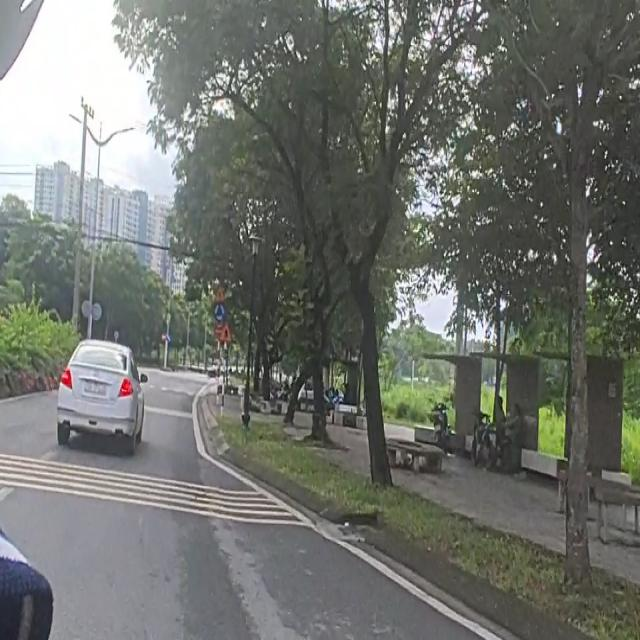Bien bao noi giao nhau chay theo vong xuyen: (212, 302, 227, 324)
